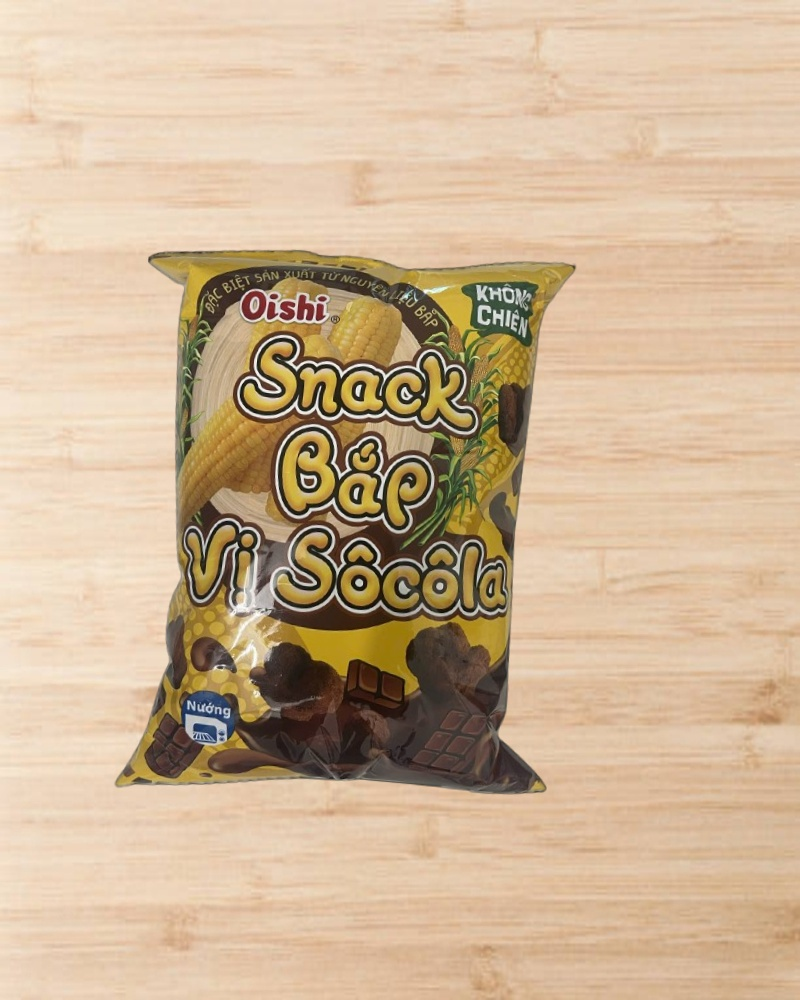Snack socola: (106, 232, 592, 813)
